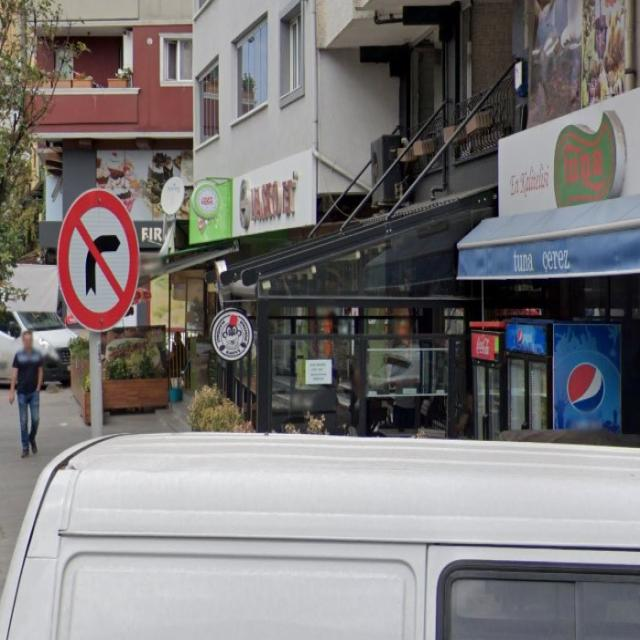sagadonulmez: (55, 188, 139, 332)
